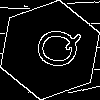Q: (25, 25, 83, 71)
